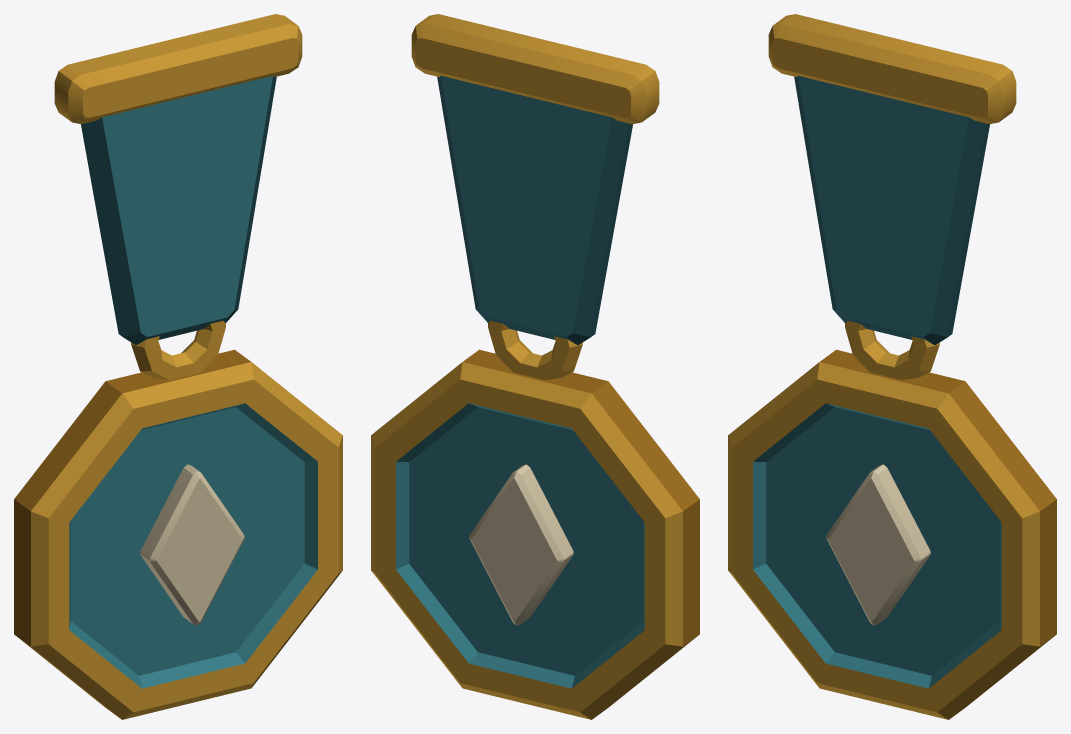
The model's file is Medal_20.glb.
The picture shows the model from 3 angles, left to right: view 1: azimuth 30°, elevation 25°; view 2: azimuth 150°, elevation 25°; view 3: azimuth 330°, elevation 25°; orthographic projection.
Parts seen in each view (by area): view 1: Medal_20; view 2: Medal_20; view 3: Medal_20.
Boxes of the visible parts, box(x1,y1,x2,y2) form: Medal_20: box(14, 14, 342, 719); Medal_20: box(371, 14, 699, 719); Medal_20: box(728, 14, 1056, 719).
Size of the model in its own units: 1.18 by 2.37 by 0.28.
